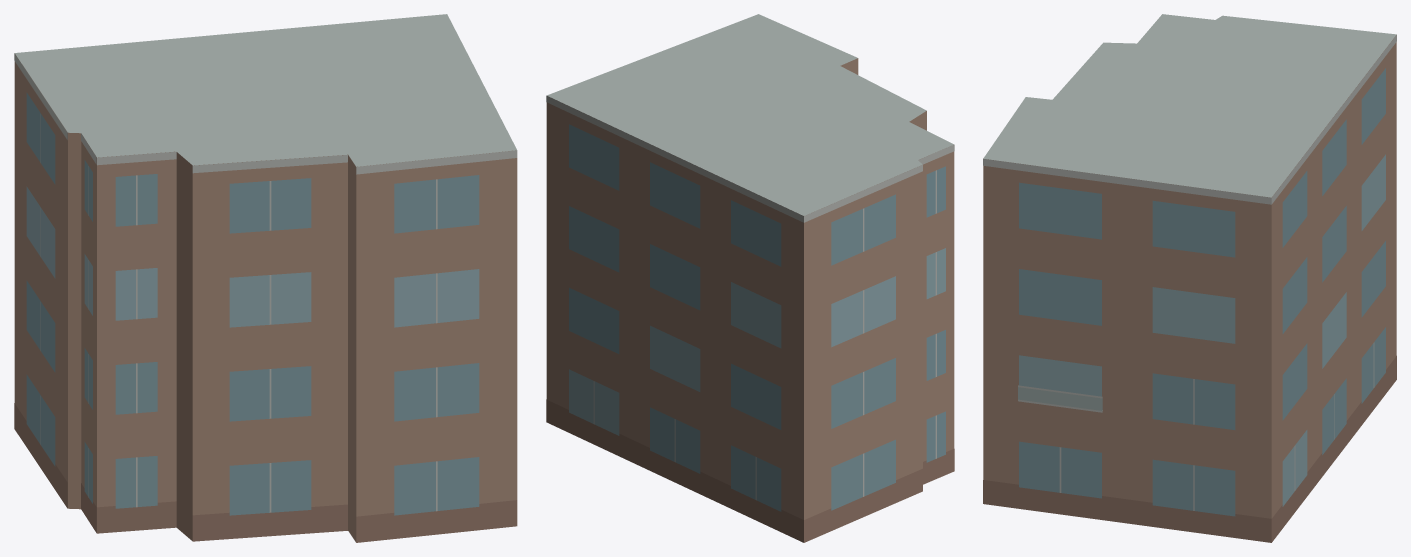
The model's file is survey-upis-32793575.glb.
3 views of the same model, side by side, from view 1: azimuth 30°, elevation 25°; view 2: azimuth 150°, elevation 25°; view 3: azimuth 270°, elevation 25° (orthographic). The views are drawn at different scales.
Parts seen in each view (by area): view 1: survey-upis-32793575.tmp; view 2: survey-upis-32793575.tmp; view 3: survey-upis-32793575.tmp.
Boxes of the visible parts, left/top/right/bottom form: survey-upis-32793575.tmp: left=14, top=14, right=517, bottom=542; survey-upis-32793575.tmp: left=546, top=14, right=954, bottom=542; survey-upis-32793575.tmp: left=983, top=14, right=1396, bottom=542.
Bounding box in the file's own units: 13.58 × 11.9 × 12.93.
